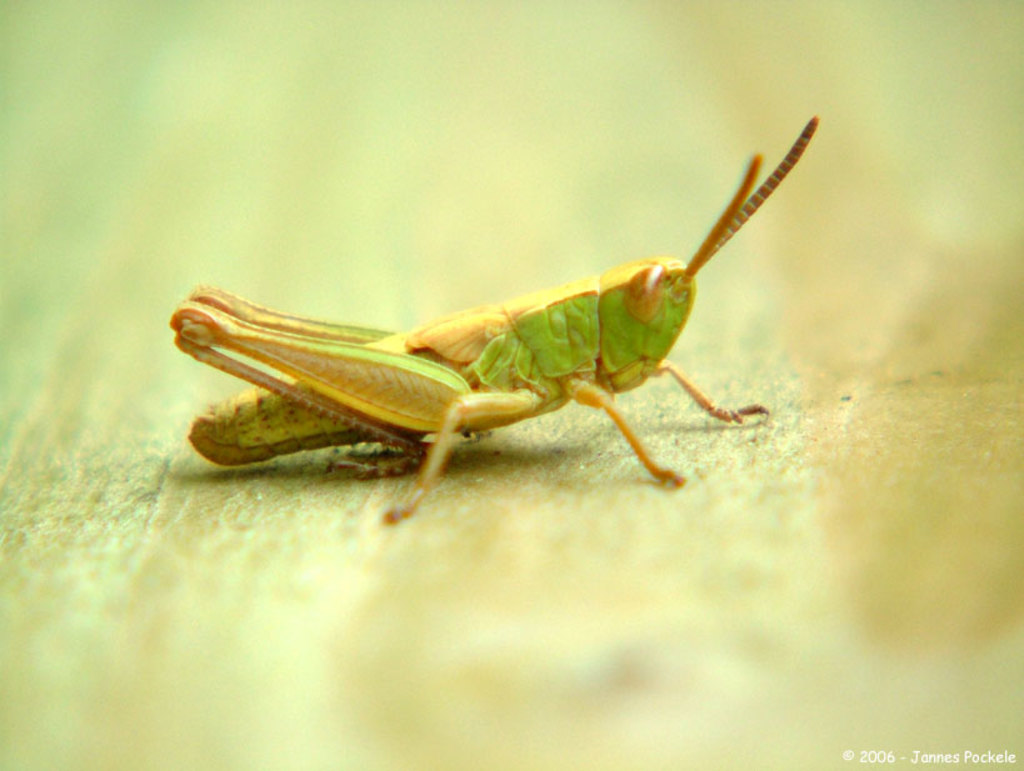person: (170, 260, 699, 474)
